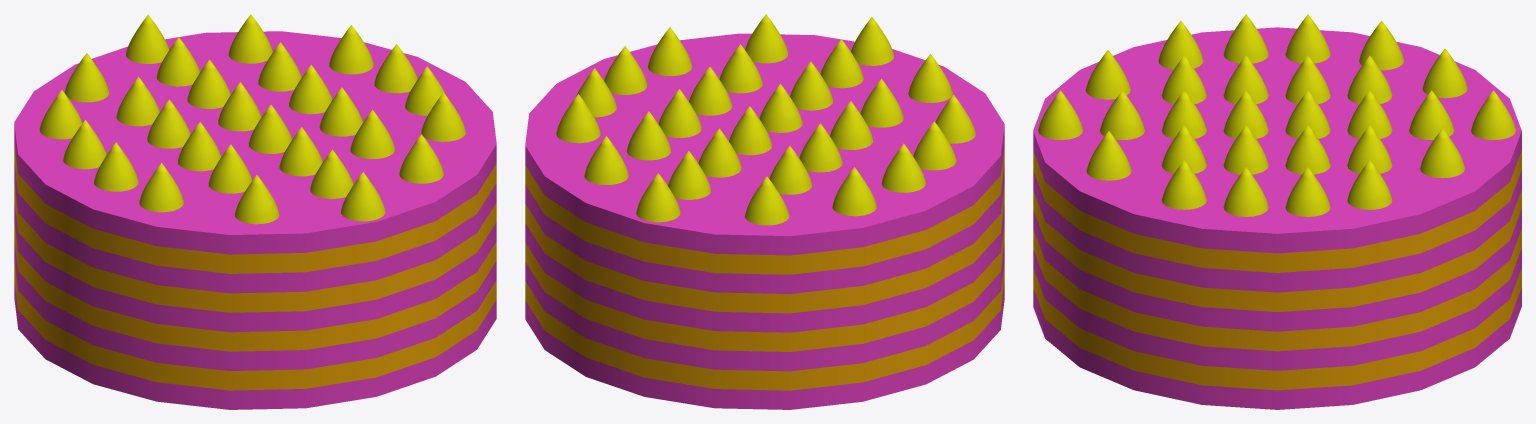
File: cake.fbx
The picture shows the model from 3 angles, left to right: view 1: azimuth 30°, elevation 25°; view 2: azimuth 150°, elevation 25°; view 3: azimuth 270°, elevation 25°; orthographic projection.
Visible parts, largest first — view 1: cake; view 2: cake; view 3: cake.
Part boxes in pixels (bbox=[...]): cake: bbox=[14, 14, 496, 409]; cake: bbox=[525, 14, 1004, 409]; cake: bbox=[1033, 14, 1521, 409].
Size of the model in its own units: 119 by 57.97 by 119.
